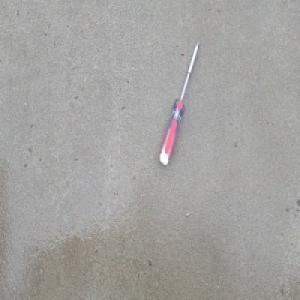Screwdriver: (158, 35, 201, 167)
